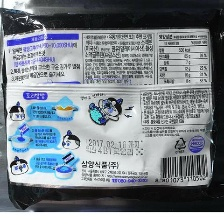snack: (0, 0, 224, 211)
